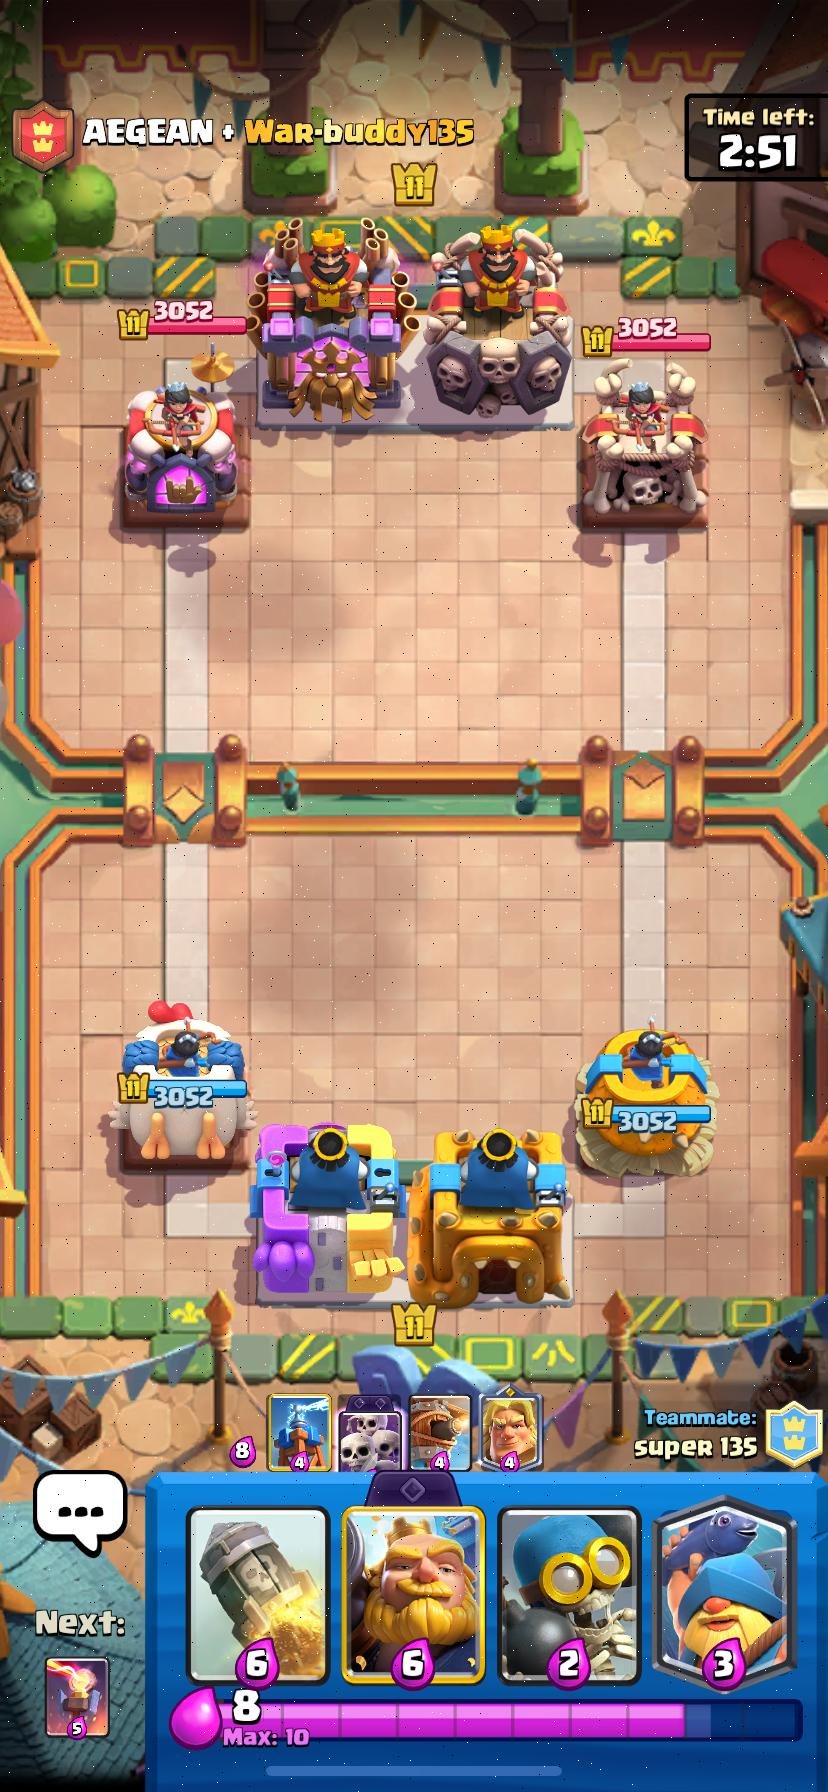EKingTower: (247, 219, 417, 421), (423, 226, 571, 418)
EnemyPrincessTower: (580, 365, 707, 523), (124, 383, 238, 522)
OwnKingTower: (408, 1127, 572, 1307), (252, 1123, 403, 1304)
OwnPrincessTower: (111, 1003, 254, 1160), (576, 1019, 717, 1175)
